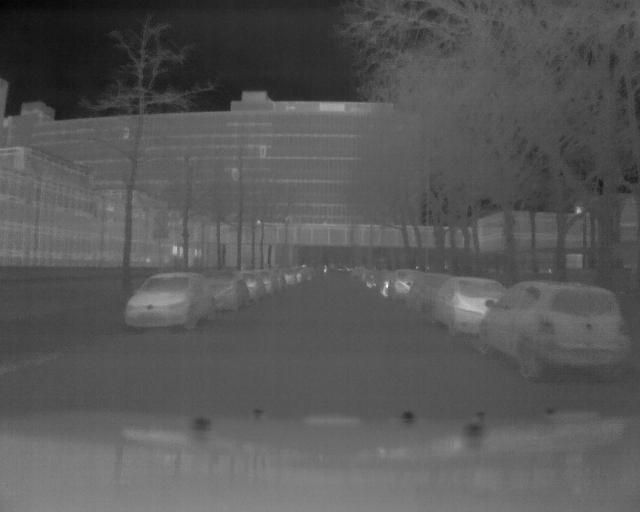car: (478, 279, 629, 381), (122, 269, 219, 336), (432, 275, 484, 335), (211, 270, 251, 311)
